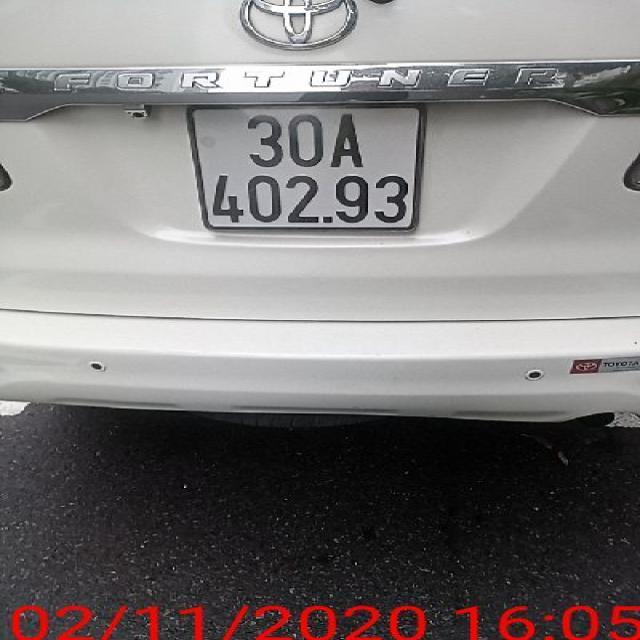bien_so_oto: (188, 101, 428, 235)
